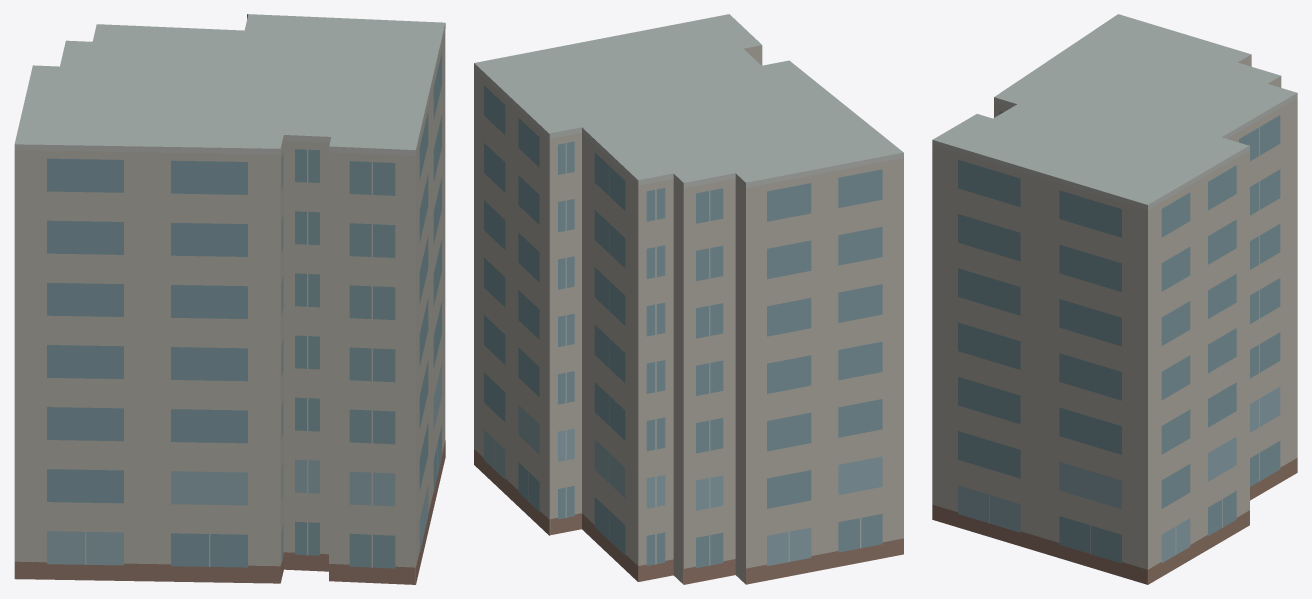
File: survey-upis-32745387.glb
3 views of the same model, side by side, from view 1: azimuth 30°, elevation 25°; view 2: azimuth 150°, elevation 25°; view 3: azimuth 270°, elevation 25° (orthographic). The views are drawn at different scales.
Visible parts, largest first — view 1: survey-upis-32745387.tmp; view 2: survey-upis-32745387.tmp; view 3: survey-upis-32745387.tmp.
Part boxes in pixels (x1,y1,x2,y2): survey-upis-32745387.tmp: [14, 14, 445, 584]; survey-upis-32745387.tmp: [474, 14, 903, 584]; survey-upis-32745387.tmp: [932, 14, 1297, 584].
Size of the model in its own units: 19.96 by 18.5 by 16.12.
